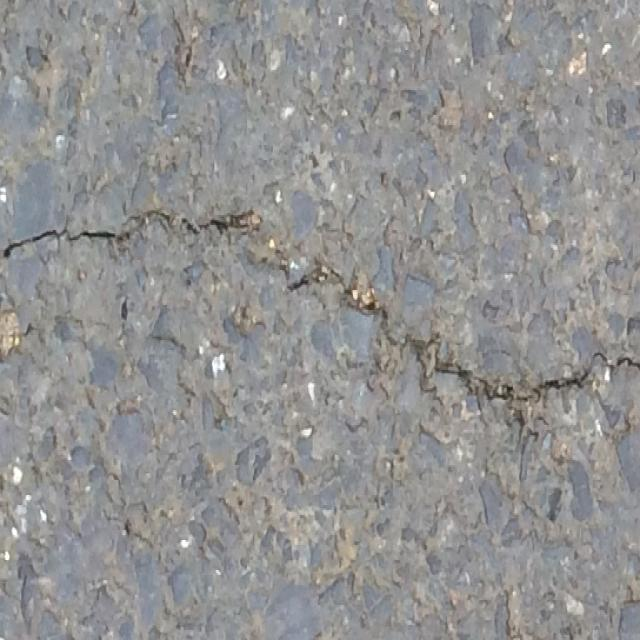Transverse: (2, 200, 640, 440)
